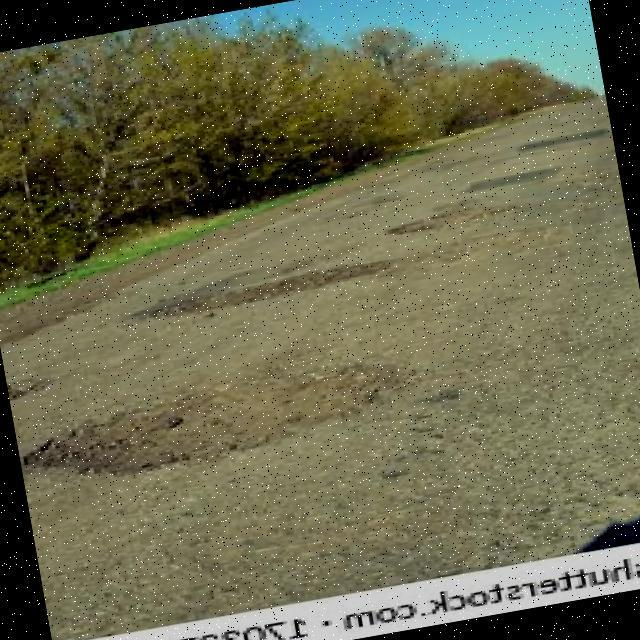Pothole: (25, 371, 394, 473), (134, 263, 403, 326), (397, 204, 509, 238)
